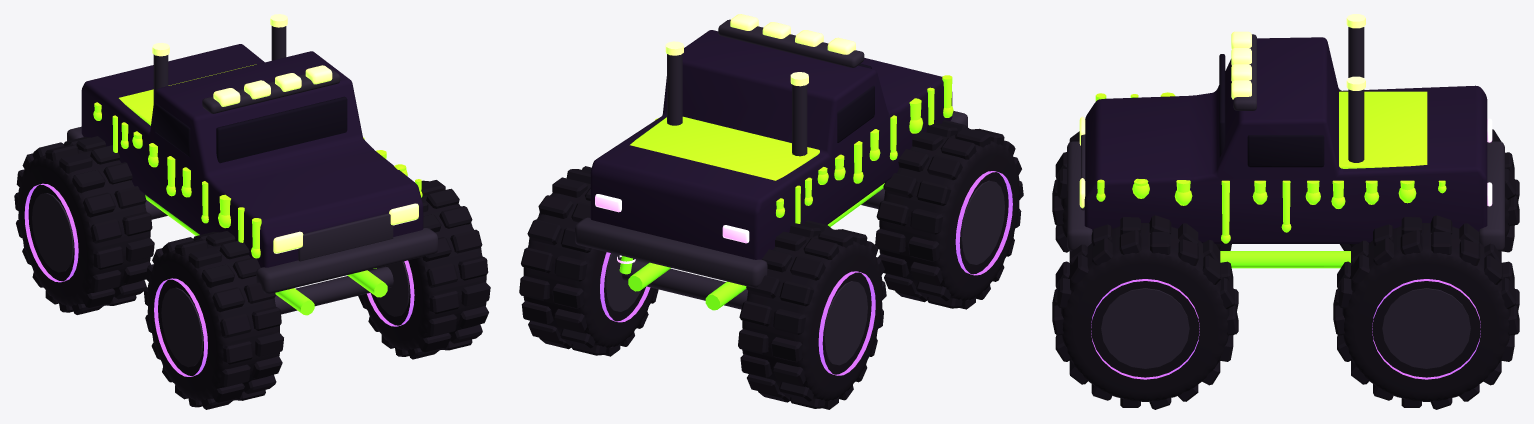
File: monster_truck.glb
3 renders of one model, left to right at view 1: azimuth 30°, elevation 25°; view 2: azimuth 150°, elevation 25°; view 3: azimuth 270°, elevation 25°, orthographic. The views are drawn at different scales.
Visible parts, largest first — view 1: truck_body, truck_details, wheel_rl_tire, wheel_fl_tire, wheel_fr_tire, truck_chassis, truck_drips; view 2: truck_body, wheel_fl_tire, wheel_rl_tire, truck_details, wheel_rr_tire, truck_chassis, truck_drips; view 3: truck_body, wheel_fr_tire, wheel_rr_tire, truck_details, truck_drips, truck_chassis, wheel_fl_tire, wheel_rl_tire.
Part boxes in pixels (x1,y1,x2,y2): truck_body: (81, 44, 423, 267); truck_details: (67, 14, 437, 293); wheel_rl_tire: (14, 136, 154, 314); wheel_fl_tire: (143, 231, 283, 409); wheel_fr_tire: (358, 180, 490, 359); truck_chassis: (145, 195, 393, 315); truck_drips: (93, 102, 422, 258); truck_body: (590, 30, 952, 259); wheel_fl_tire: (875, 120, 1023, 309); wheel_rl_tire: (738, 220, 886, 409); truck_details: (575, 14, 967, 287); wheel_rr_tire: (519, 166, 658, 356); truck_chassis: (617, 183, 885, 310); truck_drips: (655, 75, 953, 223); truck_body: (1084, 37, 1487, 243); wheel_fr_tire: (1052, 215, 1238, 409); wheel_rr_tire: (1333, 215, 1519, 409); truck_details: (1067, 14, 1504, 251); truck_drips: (1095, 92, 1446, 243); truck_chassis: (1220, 251, 1350, 268); wheel_fl_tire: (1052, 131, 1231, 252); wheel_rl_tire: (1340, 129, 1519, 252).
Size of the model in its own units: 4.68 by 4.35 by 6.32.
